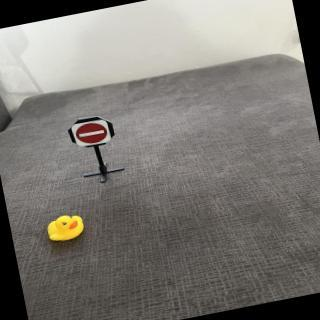duck_regular: (44, 211, 88, 245)
sign_noentry: (70, 116, 114, 151)
